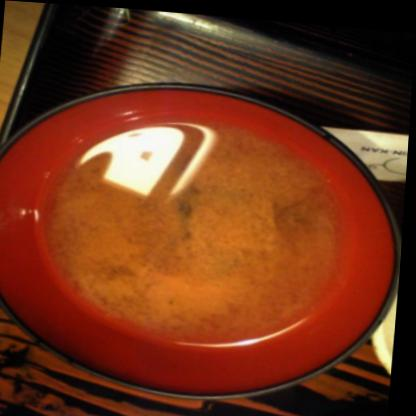miso soup: (8, 97, 367, 367)
